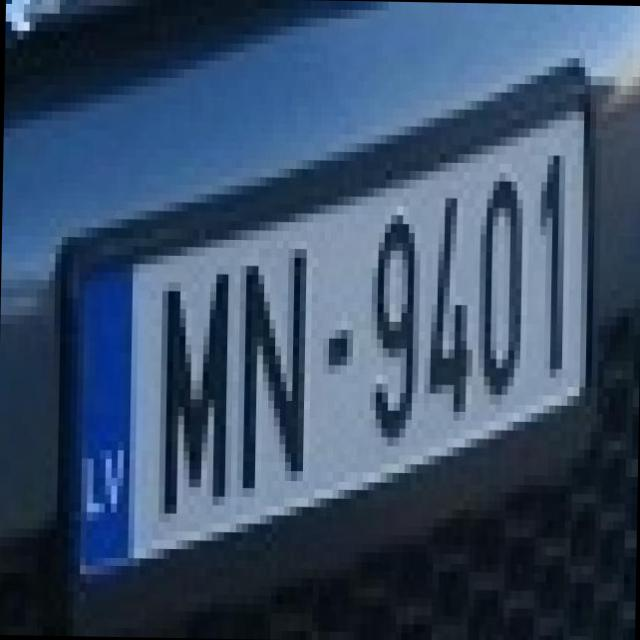0: (466, 144, 530, 386)
1: (514, 119, 578, 360)
4: (411, 162, 481, 402)
9: (351, 187, 421, 428)
M: (140, 245, 235, 514)
N: (218, 220, 313, 489)
